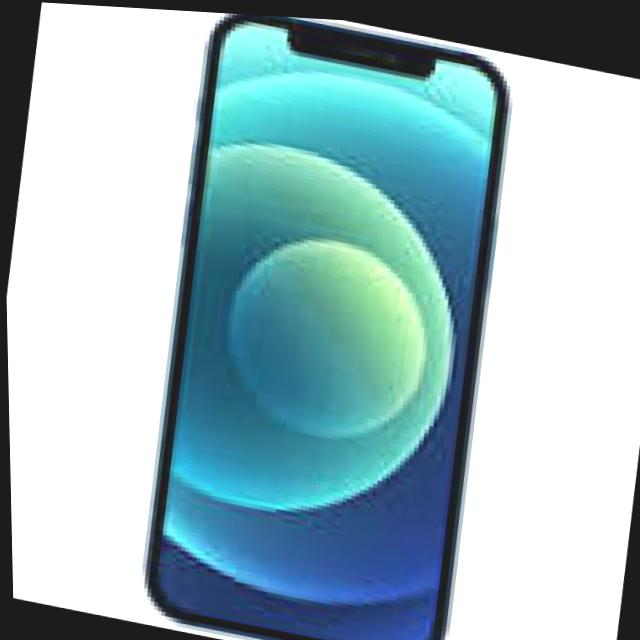Smartphone: (114, 5, 538, 640)
